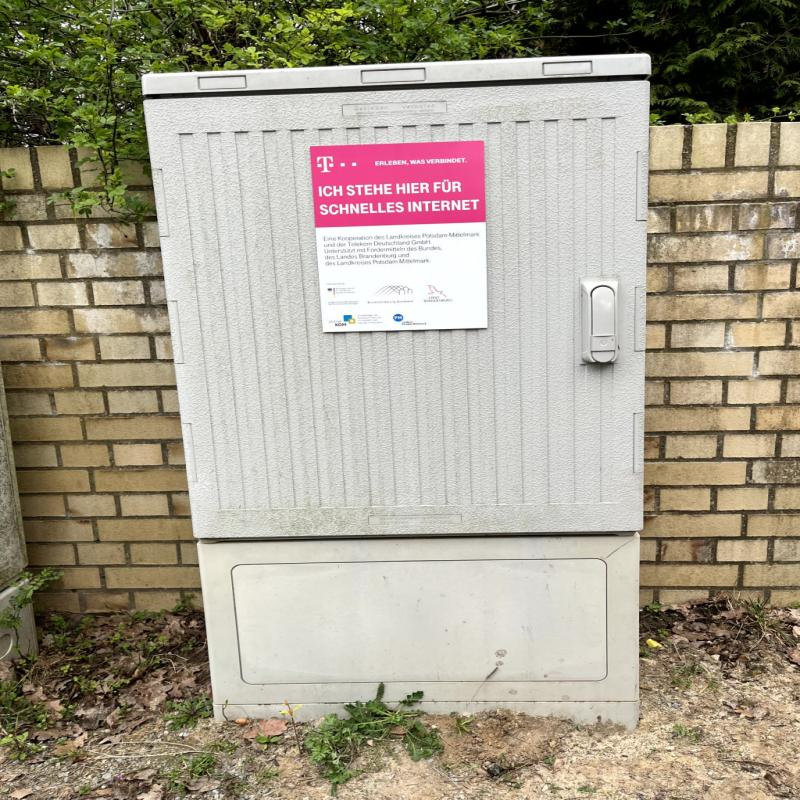NT-Gehause: (139, 75, 659, 734)
Steaker: (311, 140, 493, 333)
